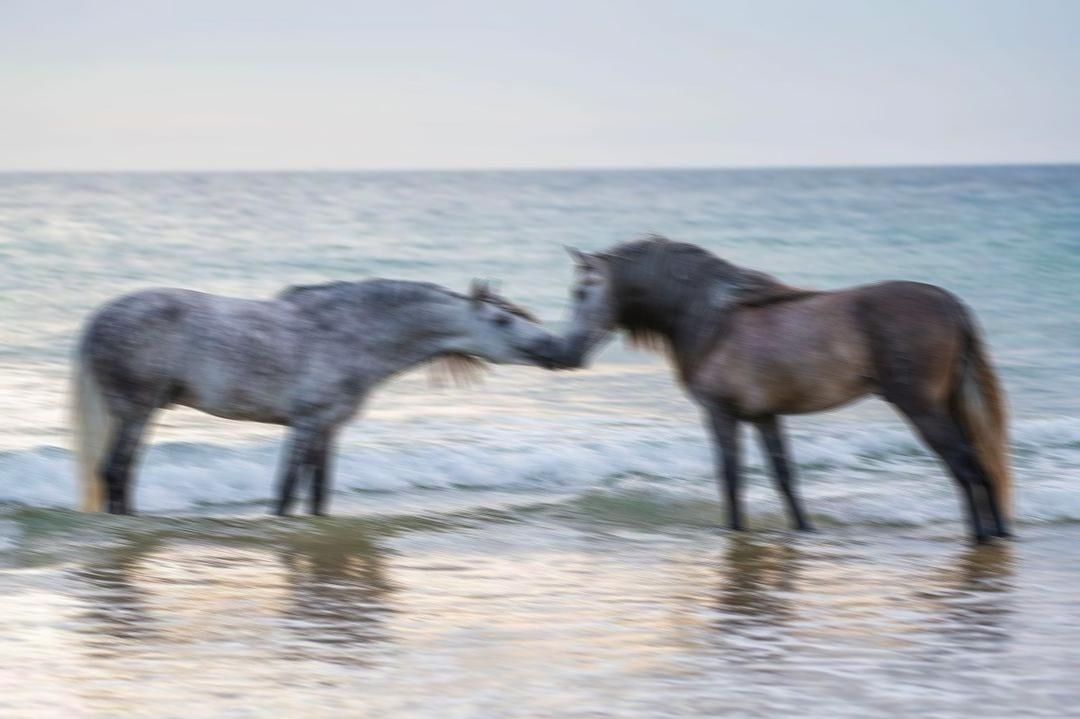horse: (552, 230, 1016, 541), (59, 274, 560, 517)
